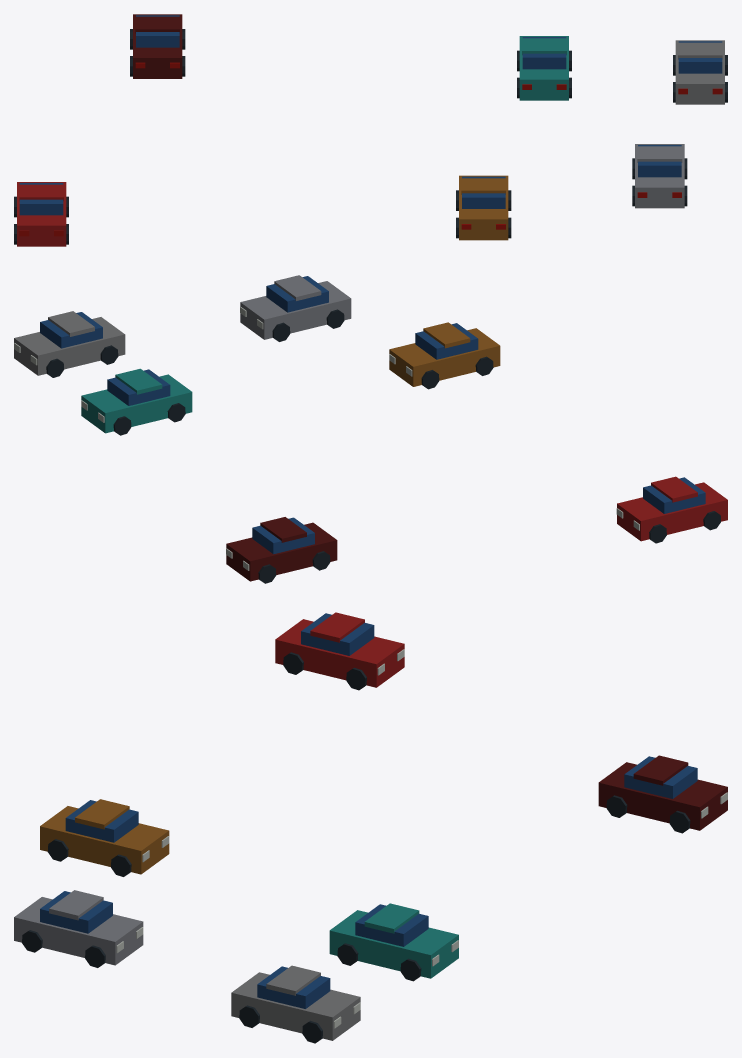
The model's file is cars_2.glb.
The picture shows the model from 3 angles, top to bottom: view 1: azimuth 30°, elevation 25°; view 2: azimuth 150°, elevation 25°; view 3: azimuth 270°, elevation 25°; orthographic projection. The views are drawn at different scales.
Visible parts, largest first — view 1: cars_2; view 2: cars_2; view 3: cars_2.
Boxes of the visible parts, x1,y1,x2,y2 form: cars_2: (14, 14, 727, 246); cars_2: (14, 275, 727, 583); cars_2: (14, 612, 727, 1043).
Bounding box in the file's own units: 57.98 × 3.04 × 43.92.
